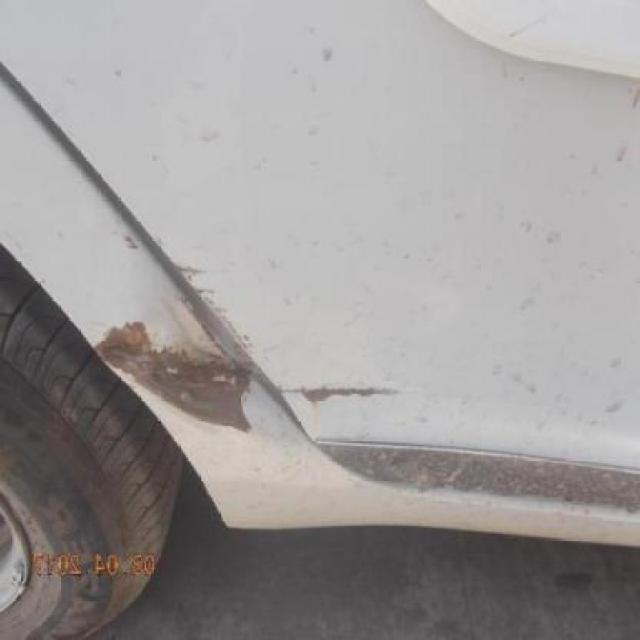damage: (89, 305, 259, 440), (113, 230, 254, 365), (275, 368, 403, 409)
